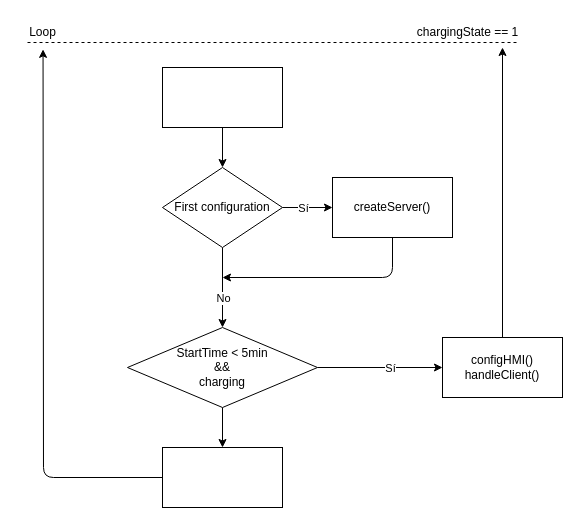
The diagram is 580 pixels wide and 525 high, and some of its shapes have lost their labels. The box of each missing label's shape, as (x1, y1, x2, y2) in pixels:
Desconectar cliente chargingState = 2: (162, 446, 282, 508)
Leer pin batería: (162, 66, 282, 128)
